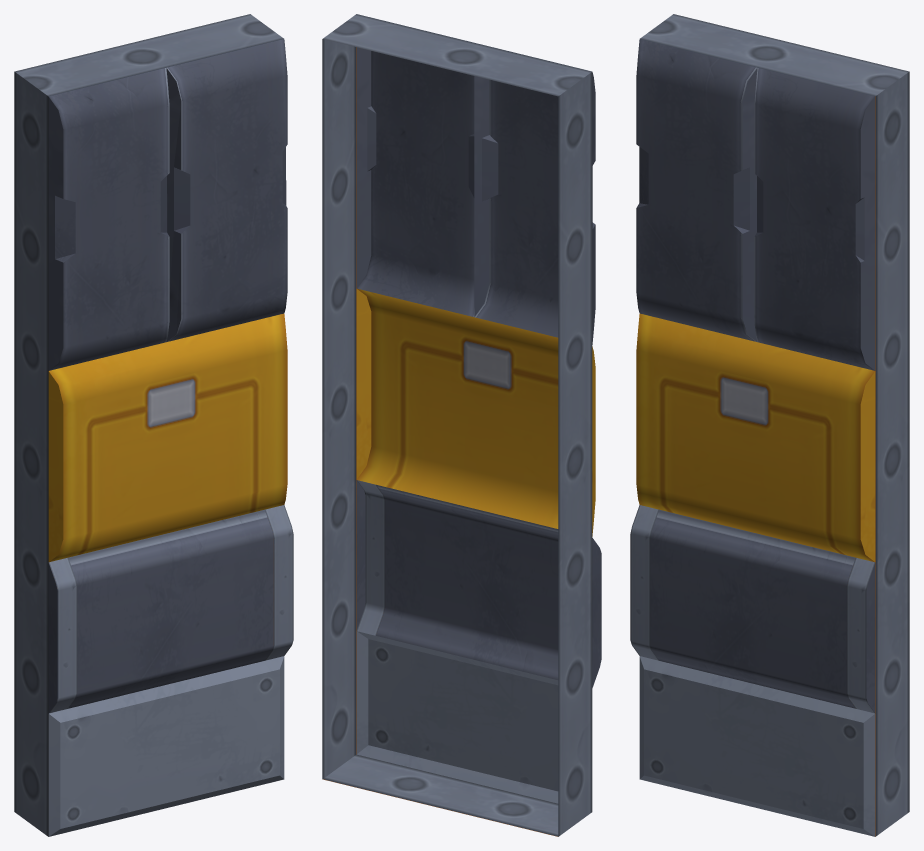
File: obj_spaceship_wall02.fbx
3 views of the same model, side by side, from view 1: azimuth 30°, elevation 25°; view 2: azimuth 150°, elevation 25°; view 3: azimuth 330°, elevation 25° (orthographic).
Parts seen in each view (by area): view 1: spaceship_wall02; view 2: spaceship_wall02; view 3: spaceship_wall02.
Part boxes in pixels (left/top/right/bottom): spaceship_wall02: left=14, top=14, right=293, bottom=836; spaceship_wall02: left=322, top=14, right=601, bottom=836; spaceship_wall02: left=630, top=14, right=909, bottom=836.
Bounding box in the file's own units: 4 × 12 × 1.27.
